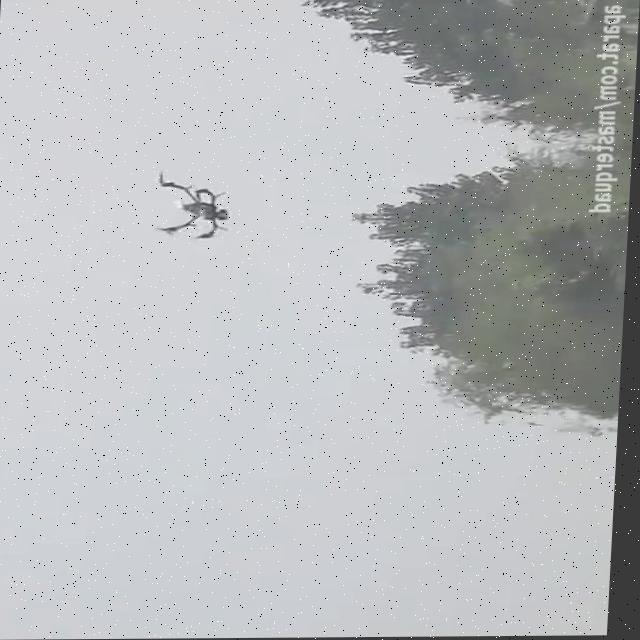drone: (148, 167, 237, 243)
